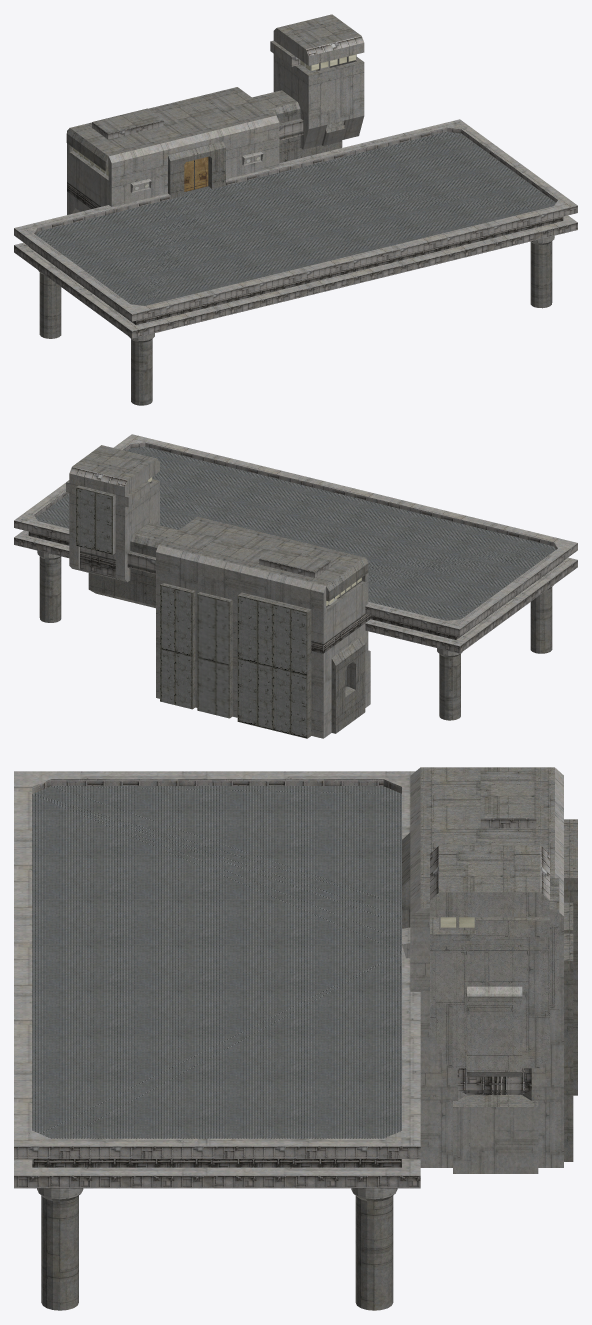
The model's file is mun_all_landing_pad_s01_r0_exterior_mesh_l0.fbx.
The picture shows the model from 3 angles, top to bottom: view 1: azimuth 30°, elevation 25°; view 2: azimuth 150°, elevation 25°; view 3: azimuth 270°, elevation 25°; orthographic projection. The views are drawn at different scales.
Visible parts, largest first — view 1: mesh_node; view 2: mesh_node; view 3: mesh_node.
Boxes of the visible parts, <box> form: mesh_node: <box>14,14,577,405</box>; mesh_node: <box>14,434,577,738</box>; mesh_node: <box>14,767,577,1310</box>.
Size of the model in its own units: 48 by 21 by 30.51.
